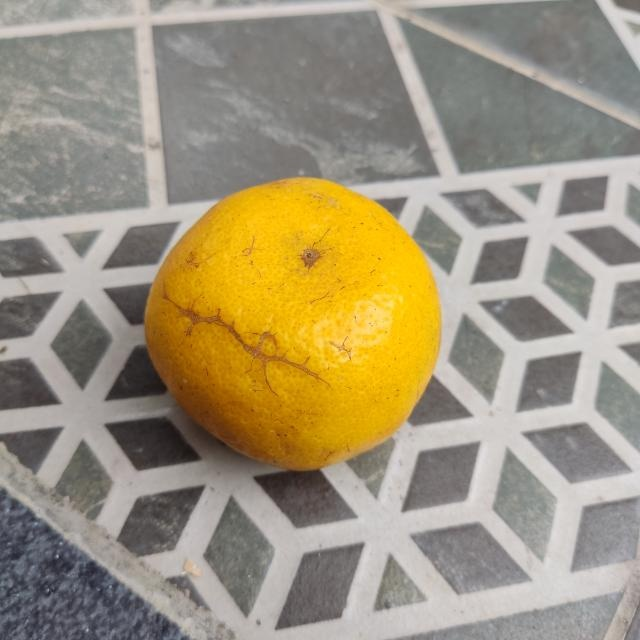agrume: (141, 172, 445, 475)
